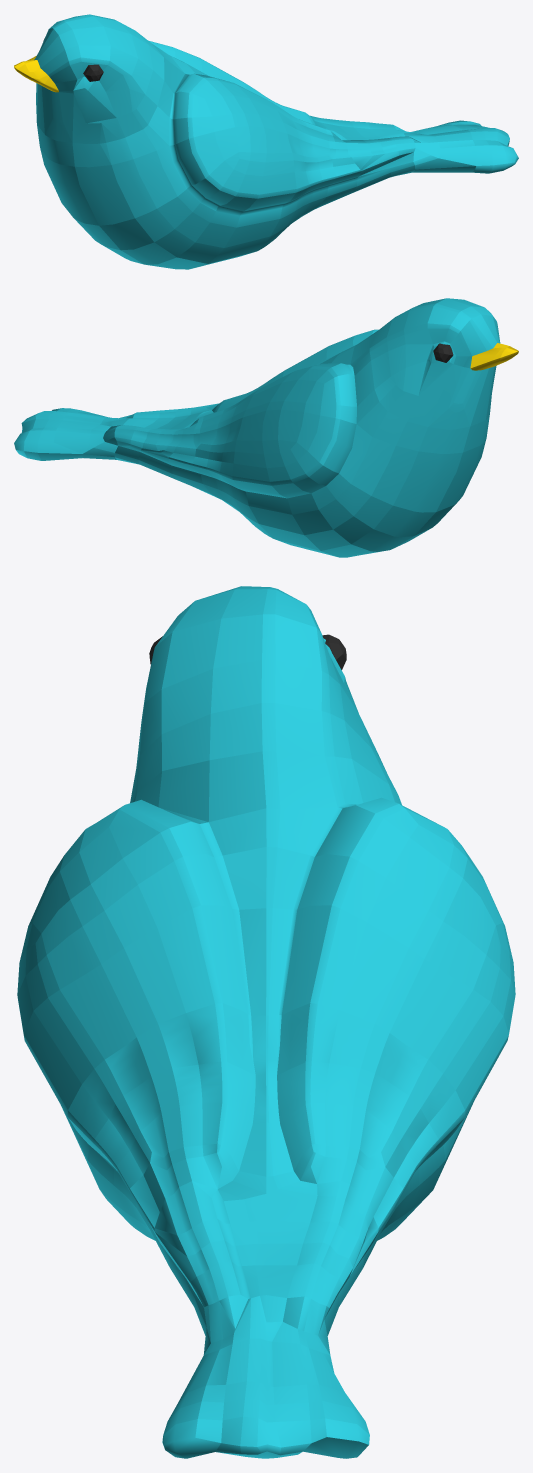
File: Bird.fbx
3 views of the same model, one above another, from view 1: azimuth 30°, elevation 25°; view 2: azimuth 150°, elevation 25°; view 3: azimuth 270°, elevation 25° (orthographic). The views are drawn at different scales.
Parts seen in each view (by area): view 1: Bird; view 2: Bird; view 3: Bird.
Part boxes in pixels (x1,y1,x2,y2): Bird: [14, 14, 518, 269]; Bird: [14, 298, 518, 557]; Bird: [17, 586, 515, 1458].
Size of the model in its own units: 6.58 by 3.34 by 2.89.
